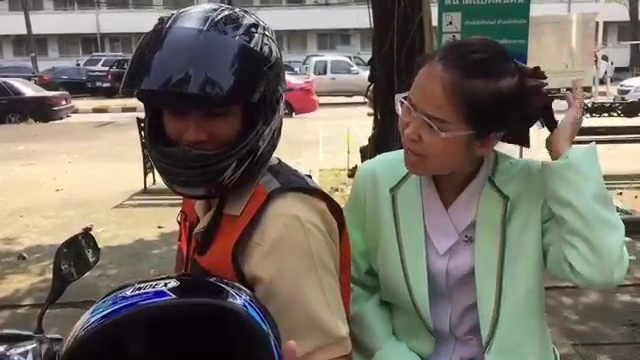helmet: (122, 3, 295, 199), (80, 278, 287, 350)
